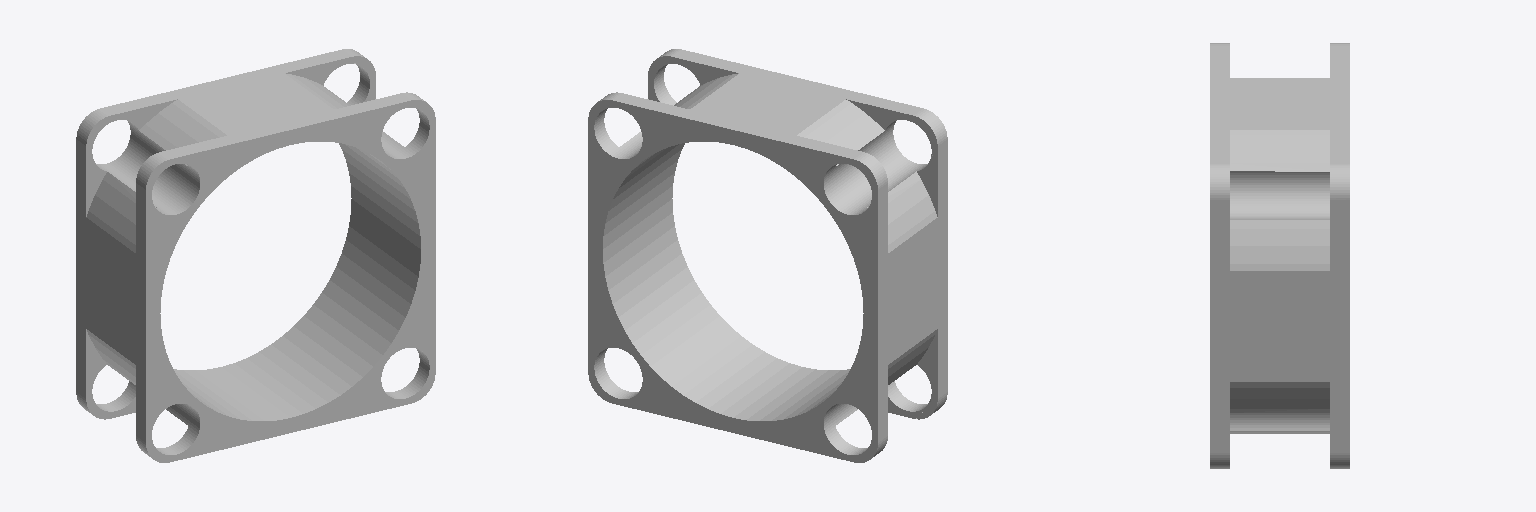
The model's file is Fan Place Holder.obj.
3 views of the same model, side by side, from view 1: azimuth 30°, elevation 25°; view 2: azimuth 150°, elevation 25°; view 3: azimuth 270°, elevation 25° (orthographic).
Parts seen in each view (by area): view 1: Mesh1 Model; view 2: Mesh1 Model; view 3: Mesh1 Model.
Boxes of the visible parts, x1,y1,x2,y2 form: Mesh1 Model: [76, 49, 435, 462]; Mesh1 Model: [588, 49, 947, 462]; Mesh1 Model: [1210, 43, 1349, 468].
Size of the model in its own units: 24 by 24 by 10.